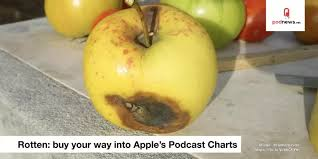apple: (161, 2, 245, 47), (43, 2, 121, 41), (239, 3, 282, 48)
damaged_apple: (88, 9, 218, 129)
